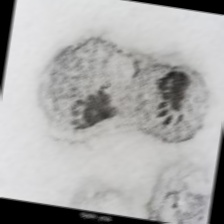raccoon: (67, 89, 123, 139)
